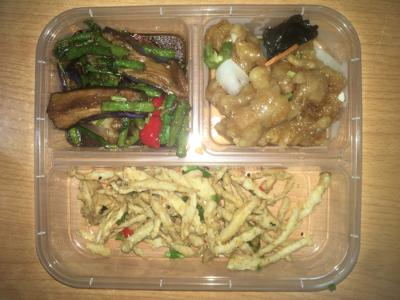gbr: (207, 19, 344, 149)
sqz: (58, 28, 187, 149)
